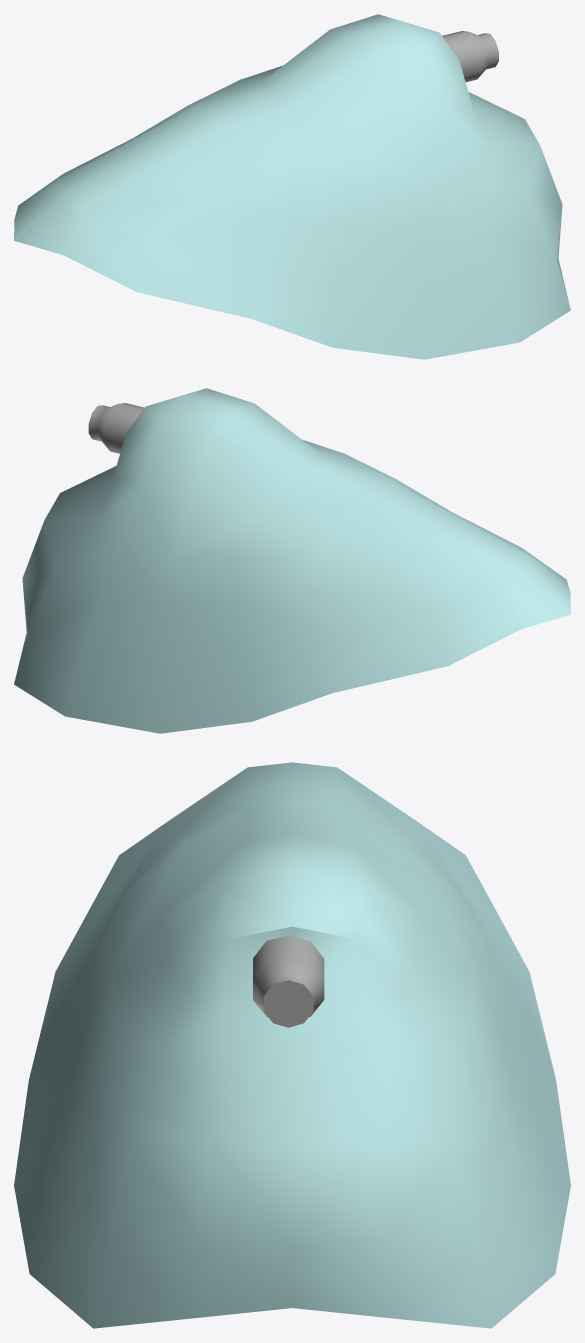
Rendered from OxygenMask.fbx.
The picture shows the model from 3 angles, top to bottom: view 1: azimuth 30°, elevation 25°; view 2: azimuth 150°, elevation 25°; view 3: azimuth 270°, elevation 25°; orthographic projection. The views are drawn at different scales.
Parts seen in each view (by area): view 1: pCylinder35; view 2: pCylinder35; view 3: pCylinder35.
Boxes of the visible parts, x1,y1,x2,y2 form: pCylinder35: (14, 14, 570, 359); pCylinder35: (14, 388, 570, 733); pCylinder35: (14, 762, 570, 1328).
Size of the model in its own units: 0.4386 by 0.2137 by 0.2794.
